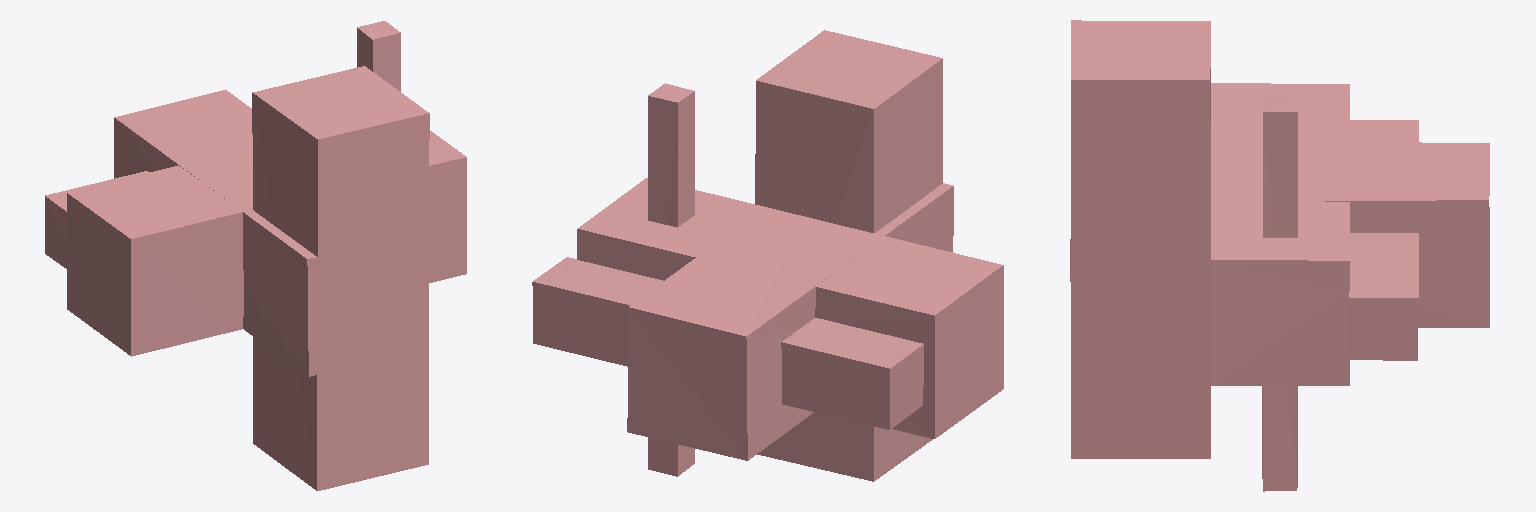
robot.urdf — procedural_obj_0005:
<?xml version="0.0" ?>
<!-- based on data/cube.urdf -->
<robot name="procedural_obj_0005">
  <link name="procedural_obj_0005">
    <contact>
      <lateral_friction value="1.0"/>
      <rolling_friction value="0.0"/>
      <contact_cfm value="0.0"/>
      <contact_erp value="1.0"/>
    </contact>
    <inertial>
      <origin rpy="0 0 0" xyz="0 0 0"/>
       <mass value="1.0"/>
       <inertia ixx="1" ixy="0" ixz="0" iyy="1" iyz="0" izz="1"/>
    </inertial>
    <visual>
      <origin rpy="0 0 0" xyz="0 0 0"/>
      <geometry>
	<mesh filename="0005.obj" scale="1 1 1"/>
      </geometry>
       <material name="random_colour">
        <color rgba="0.908 0.678 0.685 1"/>
      </material>
    </visual>
    <collision>
      <origin rpy="0 0 0" xyz="0 0 0"/>
      <geometry>
	<mesh filename="0005.vhacd.obj" scale="1 1 1"/>
      </geometry>
    </collision>
  </link>
</robot>

--- Facts derived from the render (not from the file) ---
3 views of the same robot in one strip: view 1: azimuth 30°, elevation 25°; view 2: azimuth 150°, elevation 25°; view 3: azimuth 270°, elevation 25° (orthographic).
Model procedural_obj_0005 with 1 links and 0 joints (none), rooted at procedural_obj_0005, posed all joints at 0.
Visible links, largest first — view 1: procedural_obj_0005; view 2: procedural_obj_0005; view 3: procedural_obj_0005.
Link boxes in pixels (box(x1,y1,x2,y2)): procedural_obj_0005: box(45, 21, 466, 490); procedural_obj_0005: box(532, 30, 1003, 481); procedural_obj_0005: box(1070, 20, 1489, 491).
Bounding box of the posed robot: 0.0929 × 0.0902 × 0.0902 m (x, y, z).
1 mesh visuals loaded from 1 distinct referenced files (1 OBJ).